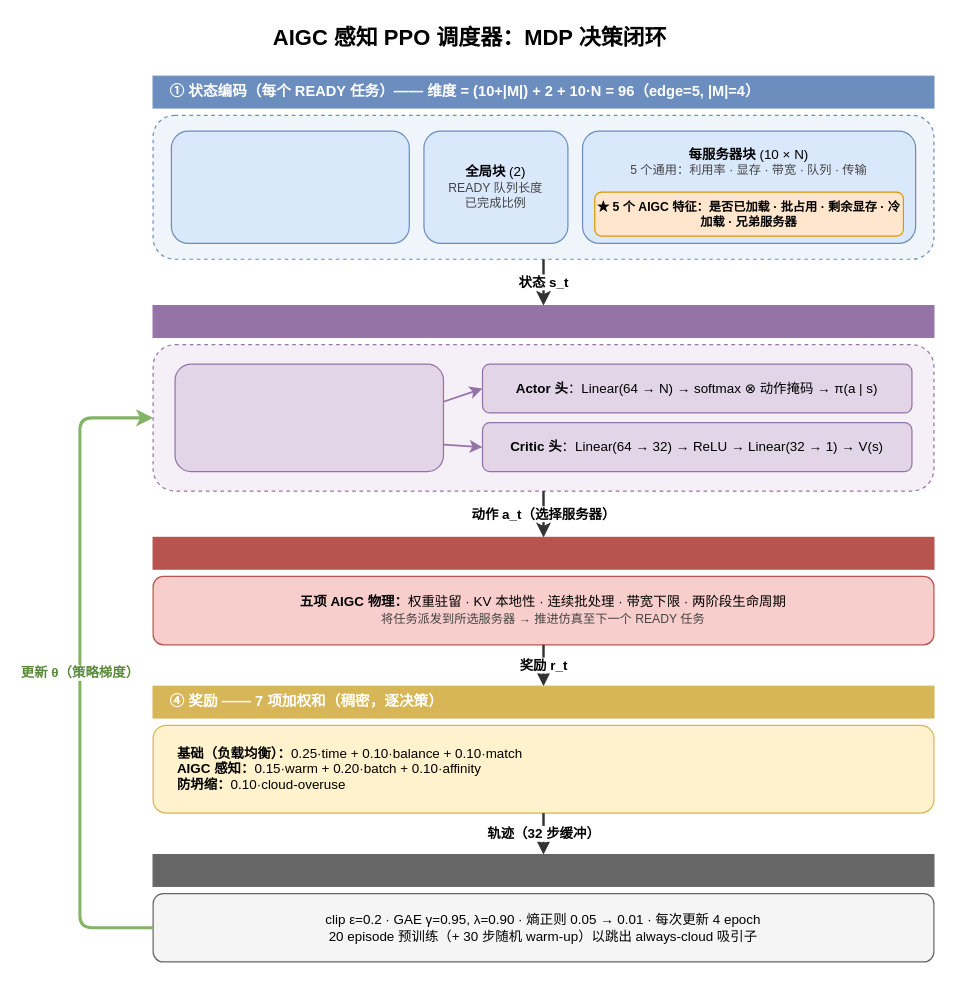
Some shapes in this 955 by 983 pixel diagram are drawn without their labels. The centre of each missing label's shape, as x and y in pixels:
MLP 编码器 state → 256 → 128 → 64 (LayerNorm + ReLU): the point at 308,417
② 策略网络 —— Actor-Critic（智能体）: the point at 543,320
③ 仿真器 —— 环境: the point at 543,552
⑤ PPO 更新: the point at 543,869
任务块 (10+|M|) 算力 · 工作量 · 输入/输出大小 依赖/后继数 · 任务类型 1-hot KV 大小 · 模型 ID 1-hot: the point at 289,186
